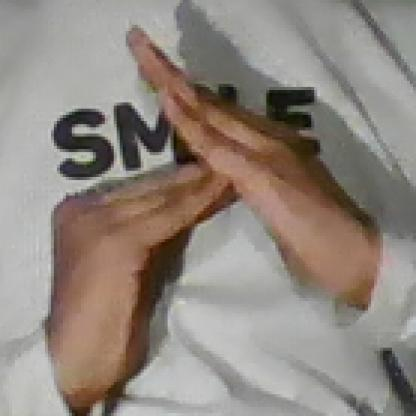Z: (38, 21, 322, 353)
